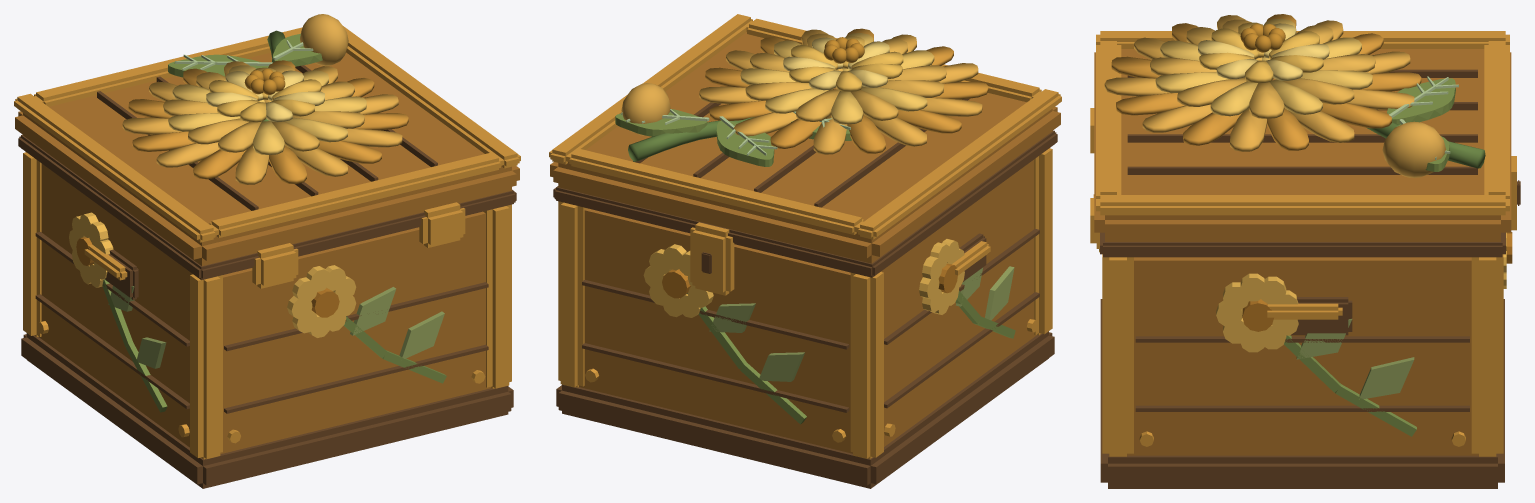
File: crate_calendula.fbx
3 renders of one model, left to right at view 1: azimuth 30°, elevation 25°; view 2: azimuth 150°, elevation 25°; view 3: azimuth 270°, elevation 25°, orthographic. The views are drawn at different scales.
Parts seen in each view (by area): view 1: crate_calendula_caixa; view 2: crate_calendula_caixa; view 3: crate_calendula_caixa.
Part boxes in pixels (x1,y1,x2,y2): crate_calendula_caixa: (14,14,520,488); crate_calendula_caixa: (549,14,1061,488); crate_calendula_caixa: (1090,14,1520,488).
Bounding box in the file's own units: 2.68 × 2.54 × 2.7.
1 material, 1 textured.
